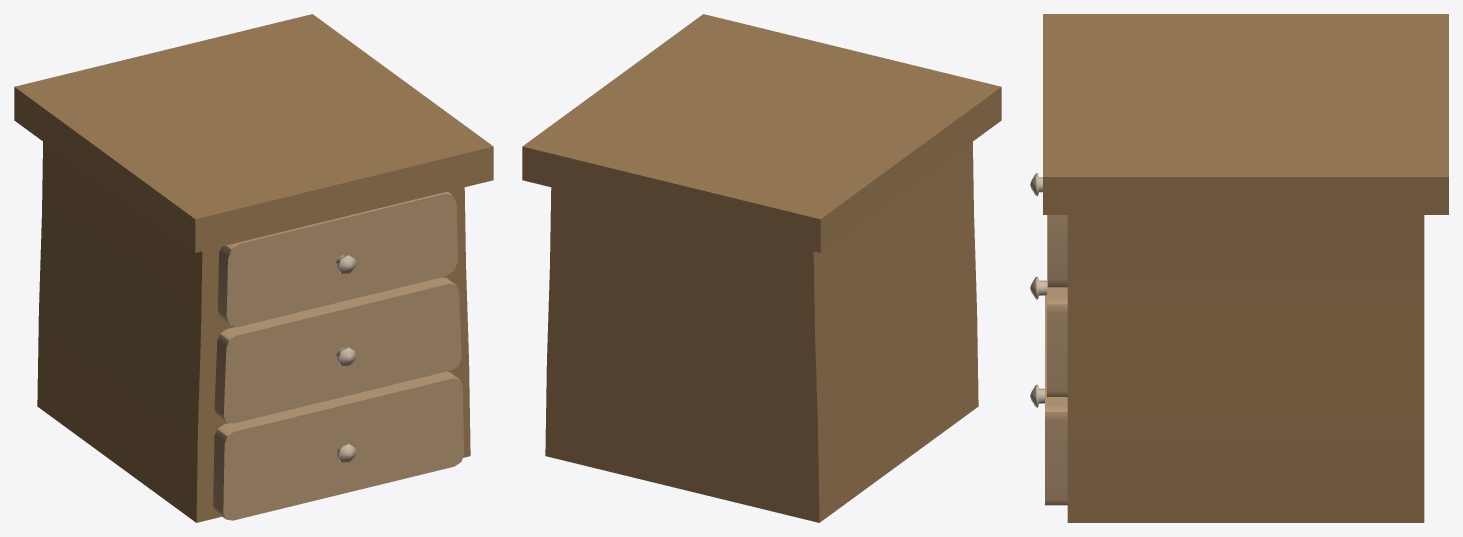
Rendered from small cabinet.fbx.
3 renders of one model, left to right at view 1: azimuth 30°, elevation 25°; view 2: azimuth 150°, elevation 25°; view 3: azimuth 270°, elevation 25°, orthographic. The views are drawn at different scales.
Visible parts, largest first — view 1: small_cabinet; view 2: small_cabinet; view 3: small_cabinet.
Part boxes in pixels (x1,y1,x2,y2): small_cabinet: (14, 14, 493, 522); small_cabinet: (522, 14, 1001, 522); small_cabinet: (1030, 14, 1448, 522).
Bounding box in the file's own units: 102 × 103 × 110.
